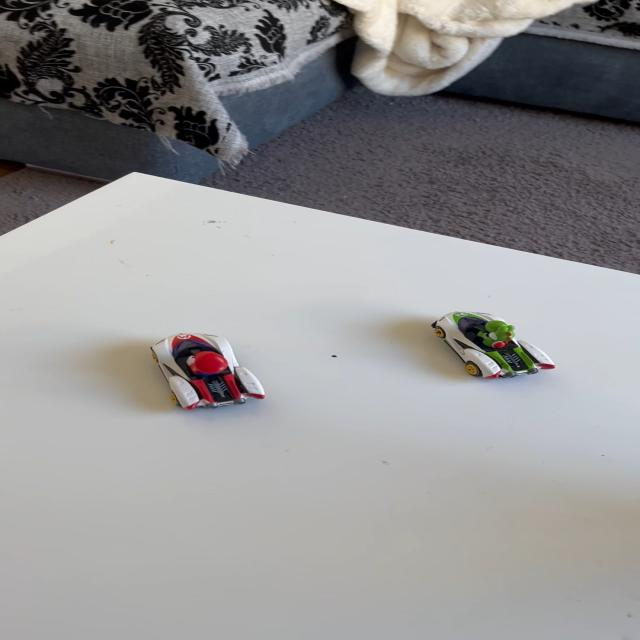mario: (129, 319, 283, 424)
yoshi: (413, 304, 564, 389)
